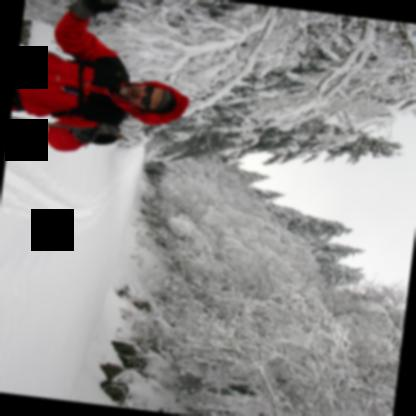backpack: (49, 58, 129, 123)
